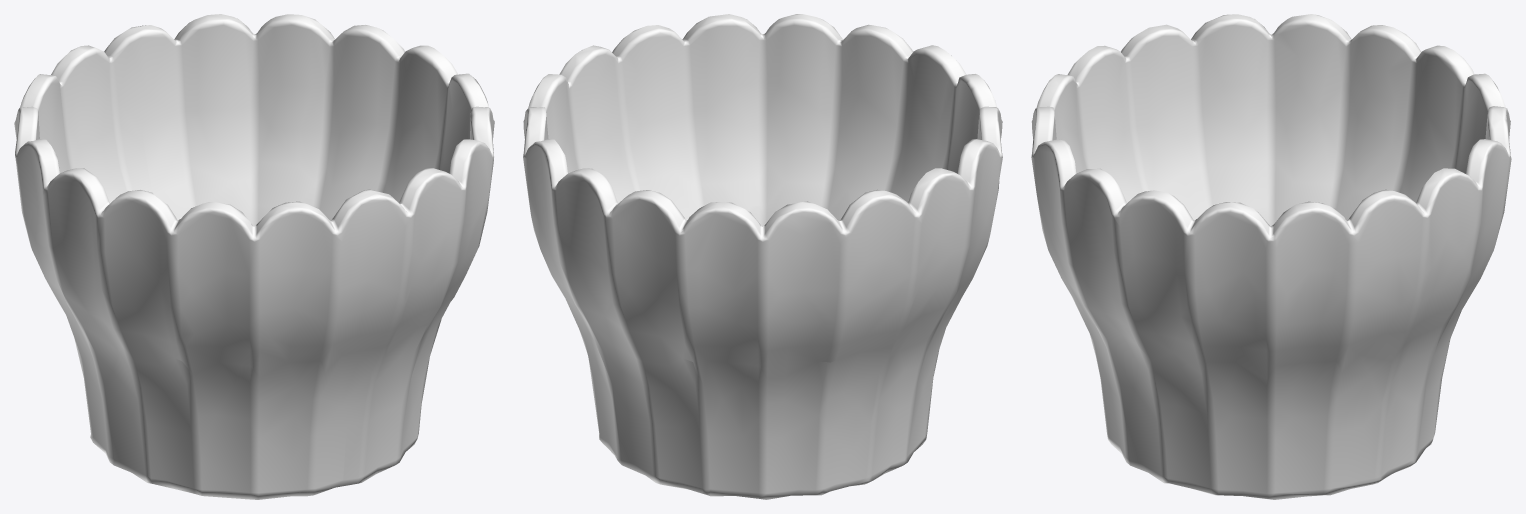
The model's file is smanackros_swiecznik_na_tealighty_50638149.glb.
3 renders of one model, left to right at view 1: azimuth 30°, elevation 25°; view 2: azimuth 150°, elevation 25°; view 3: azimuth 270°, elevation 25°, orthographic.
Parts seen in each view (by area): view 1: smanackros_swiecznik_na_tealighty_50638149; view 2: smanackros_swiecznik_na_tealighty_50638149; view 3: smanackros_swiecznik_na_tealighty_50638149.
Boxes of the visible parts, x1,y1,x2,y2 form: smanackros_swiecznik_na_tealighty_50638149: (14, 14, 494, 499); smanackros_swiecznik_na_tealighty_50638149: (523, 14, 1002, 499); smanackros_swiecznik_na_tealighty_50638149: (1031, 14, 1511, 499).
Size of the model in its own units: 0.077 by 0.0563 by 0.076.
1 material, 1 textured.
